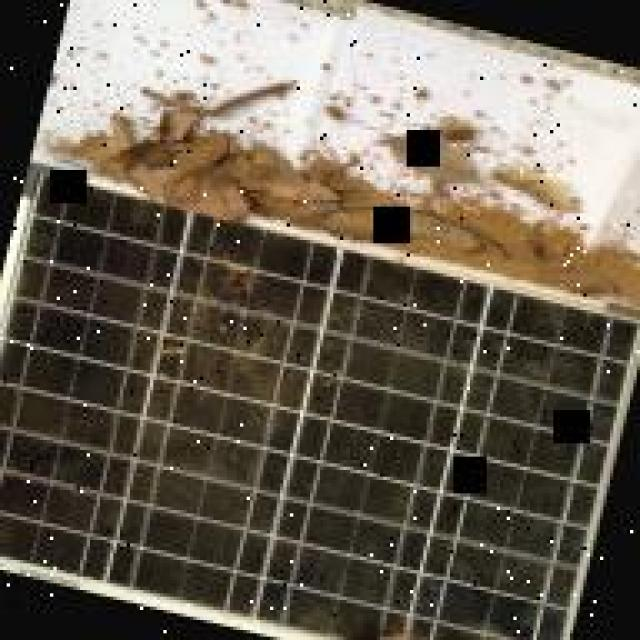dust-solar-panel: (0, 165, 632, 640)
